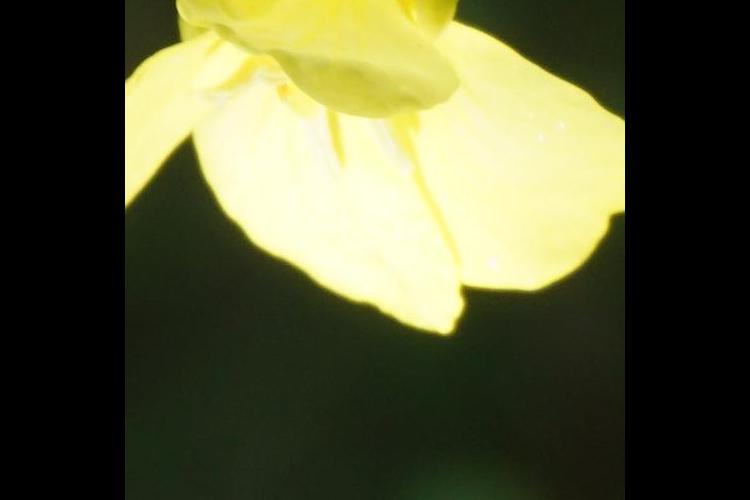yellow: (140, 1, 609, 327)
